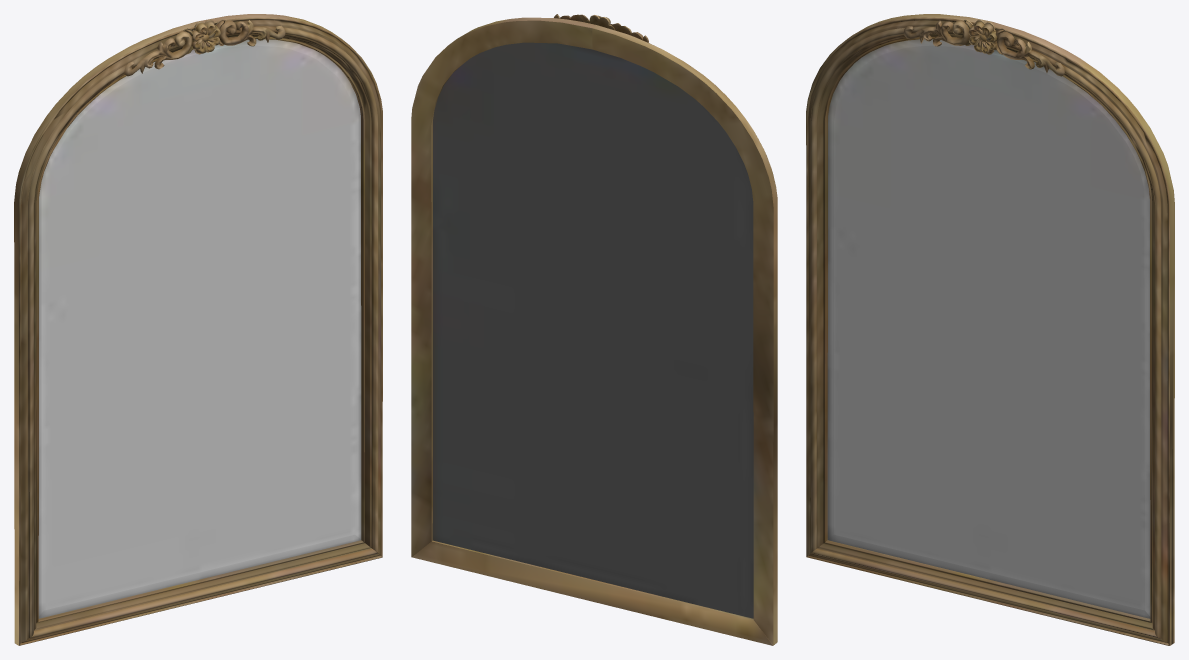
The model's file is design-ornate-mirror-01.glb.
3 views of the same model, side by side, from view 1: azimuth 30°, elevation 25°; view 2: azimuth 150°, elevation 25°; view 3: azimuth 330°, elevation 25° (orthographic).
Parts seen in each view (by area): view 1: ornate_mirror_01; view 2: ornate_mirror_01; view 3: ornate_mirror_01.
Boxes of the visible parts, x1=… form: ornate_mirror_01: x1=14, y1=14, x2=382, y2=645; ornate_mirror_01: x1=411, y1=14, x2=777, y2=645; ornate_mirror_01: x1=806, y1=14, x2=1174, y2=645.
Size of the model in its own units: 0.4865 by 0.7442 by 0.026.
Materials: 1 (1 with a texture image).
